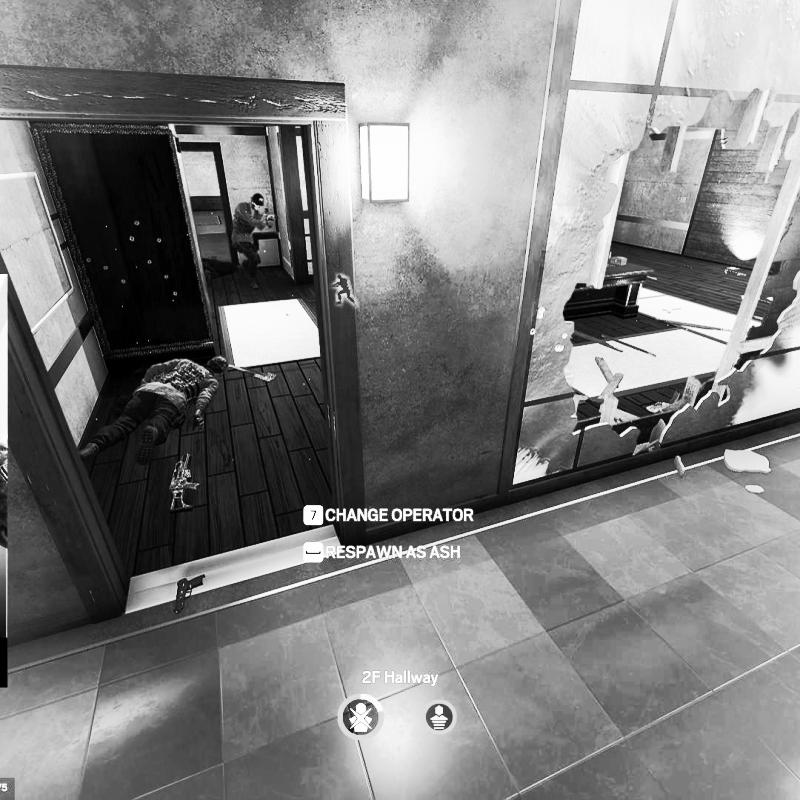Character: (77, 349, 232, 472), (228, 192, 278, 290)
Head: (207, 352, 229, 376), (251, 192, 266, 210)
